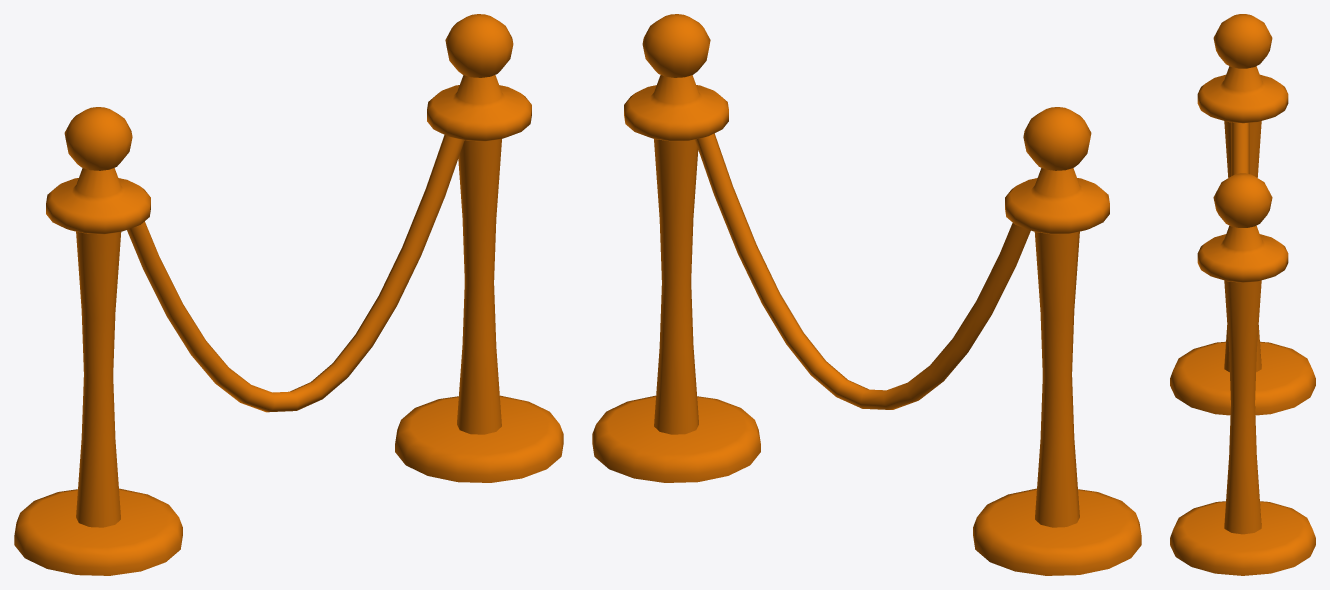
The model's file is SM_GoldenGate.fbx.
The picture shows the model from 3 angles, left to right: view 1: azimuth 30°, elevation 25°; view 2: azimuth 150°, elevation 25°; view 3: azimuth 270°, elevation 25°; orthographic projection. The views are drawn at different scales.
Parts seen in each view (by area): view 1: SM_GoldenGate; view 2: SM_GoldenGate; view 3: SM_GoldenGate.
Part boxes in pixels (x1=…): SM_GoldenGate: x1=14, y1=14, x2=563, y2=575; SM_GoldenGate: x1=592, y1=14, x2=1141, y2=575; SM_GoldenGate: x1=1170, y1=14, x2=1315, y2=575.
Size of the model in its own units: 251 by 195 by 70.
